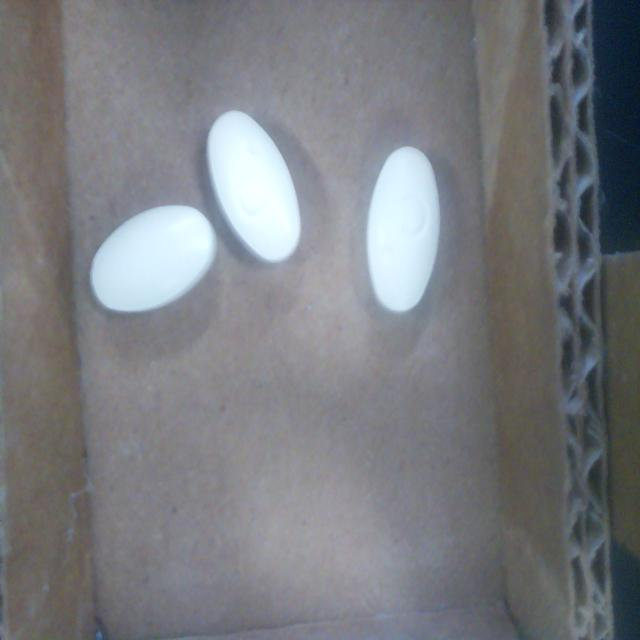pill: (207, 111, 301, 263), (90, 205, 216, 312), (366, 147, 440, 312)
